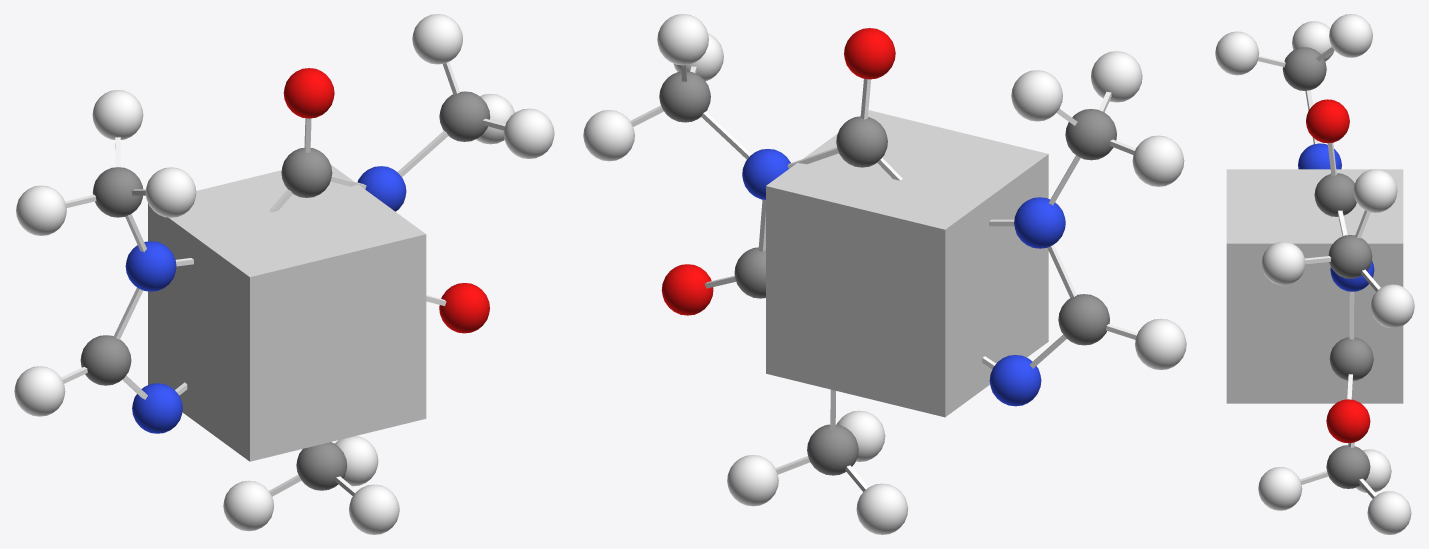
Rendered from Caffeine2.glb.
The picture shows the model from 3 angles, left to right: view 1: azimuth 30°, elevation 25°; view 2: azimuth 150°, elevation 25°; view 3: azimuth 270°, elevation 25°; orthographic projection. The views are drawn at different scales.
Visible parts, largest first — view 1: Cube, nodes[20], nodes[19], nodes[17], nodes[14], nodes[11], nodes[22], nodes[16], nodes[23], nodes[18], nodes[7], nodes[3] (+9 smaller); view 2: Cube, nodes[18], nodes[23], nodes[11], nodes[16], nodes[20], nodes[15], nodes[14], nodes[21], nodes[3], nodes[6], nodes[7] (+10 smaller); view 3: Cube, nodes[15], nodes[18], nodes[19], nodes[23], nodes[10], nodes[11], nodes[17], nodes[21], nodes[22], nodes[12], nodes[1] (+8 smaller).
Part boxes in pixels (x1,y1,x2,y2): Cube: (148, 164, 426, 461); nodes[20]: (16, 185, 66, 235); nodes[19]: (145, 167, 196, 217); nodes[17]: (349, 484, 399, 534); nodes[14]: (14, 366, 65, 416); nodes[11]: (283, 68, 334, 118); nodes[22]: (503, 108, 554, 158); nodes[16]: (223, 480, 273, 531); nodes[23]: (412, 14, 462, 64); nodes[18]: (92, 90, 143, 139); nodes[7]: (80, 335, 131, 385); nodes[3]: (281, 147, 332, 197); Cube: (766, 110, 1048, 417); nodes[18]: (1011, 70, 1062, 121); nodes[23]: (657, 14, 708, 65); nodes[11]: (844, 28, 895, 79); nodes[16]: (856, 483, 908, 534); nodes[20]: (1132, 135, 1184, 186); nodes[15]: (727, 455, 778, 506); nodes[14]: (1135, 318, 1186, 369); nodes[21]: (583, 110, 634, 161); nodes[3]: (836, 116, 887, 167); nodes[6]: (1014, 197, 1065, 248); nodes[7]: (1058, 294, 1109, 345); Cube: (1226, 169, 1403, 403); nodes[15]: (1367, 491, 1411, 534); nodes[18]: (1329, 14, 1372, 57); nodes[19]: (1215, 31, 1259, 75); nodes[23]: (1353, 169, 1397, 212); nodes[10]: (1326, 399, 1370, 443); nodes[11]: (1306, 99, 1349, 143); nodes[17]: (1258, 467, 1302, 510); nodes[21]: (1370, 284, 1414, 328); nodes[22]: (1261, 241, 1305, 285); nodes[12]: (1282, 47, 1326, 90); nodes[1]: (1329, 337, 1373, 380).
Size of the model in its own units: 6.13 by 5.2 by 2.26.
